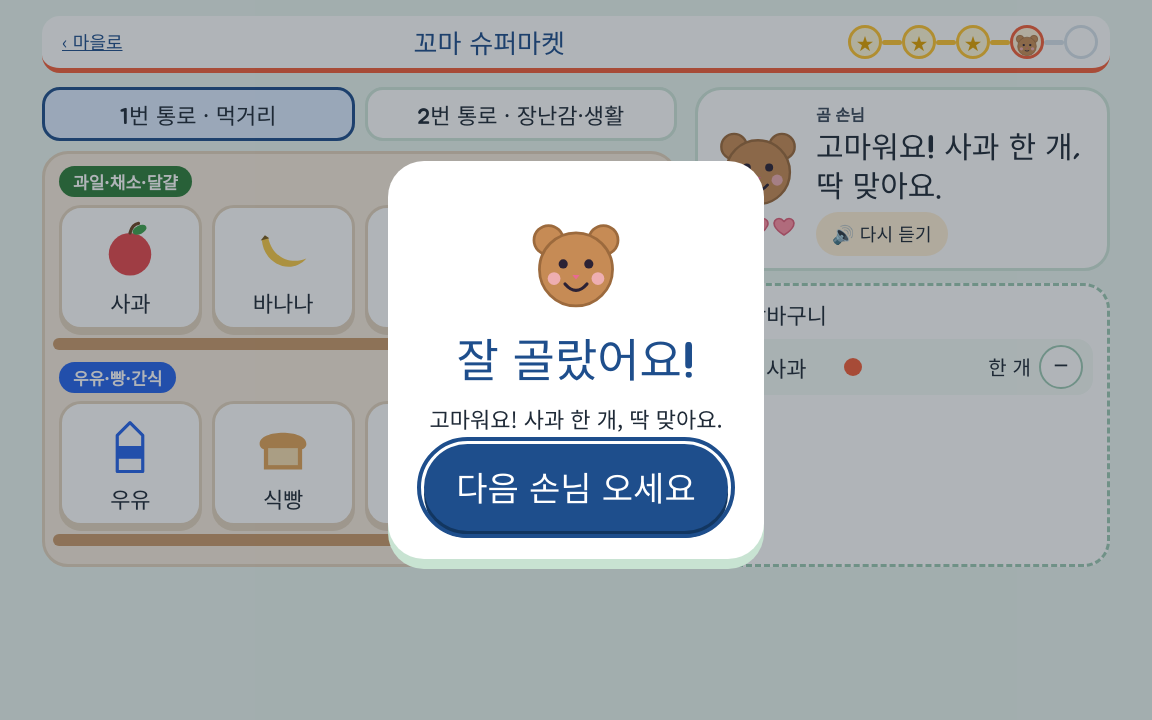
Scenario: 마을 지도와 보물상자 (게임처럼 가게를 하나씩) › 보물을 찾은 가게는 또 놀아도 열쇠가 다시 나오지 않습니다
Earlier steps of the test are not shown.
Click the button "다음 손님 오세요" at (576, 487), box 424,444 -> 728,531
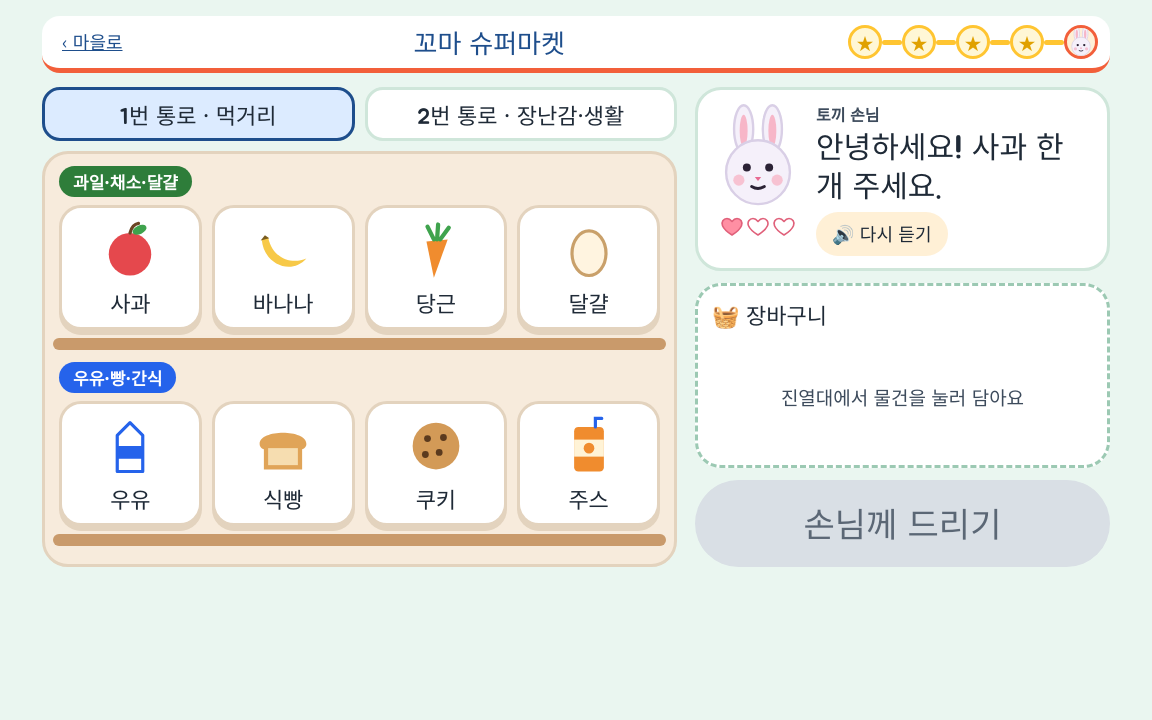
Click the button with aria-label "사과 담기" at (130, 268), box 59,205 -> 202,330
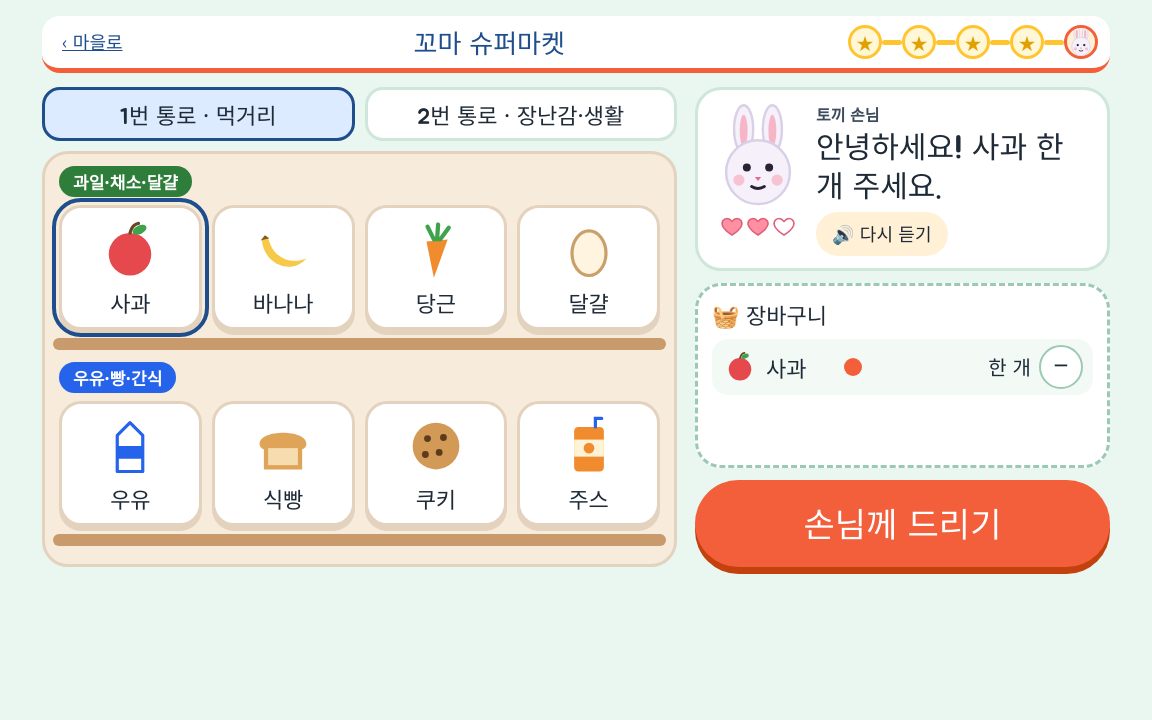
Click the button "손님께 드리기" at (902, 524), box 695,480 -> 1110,567
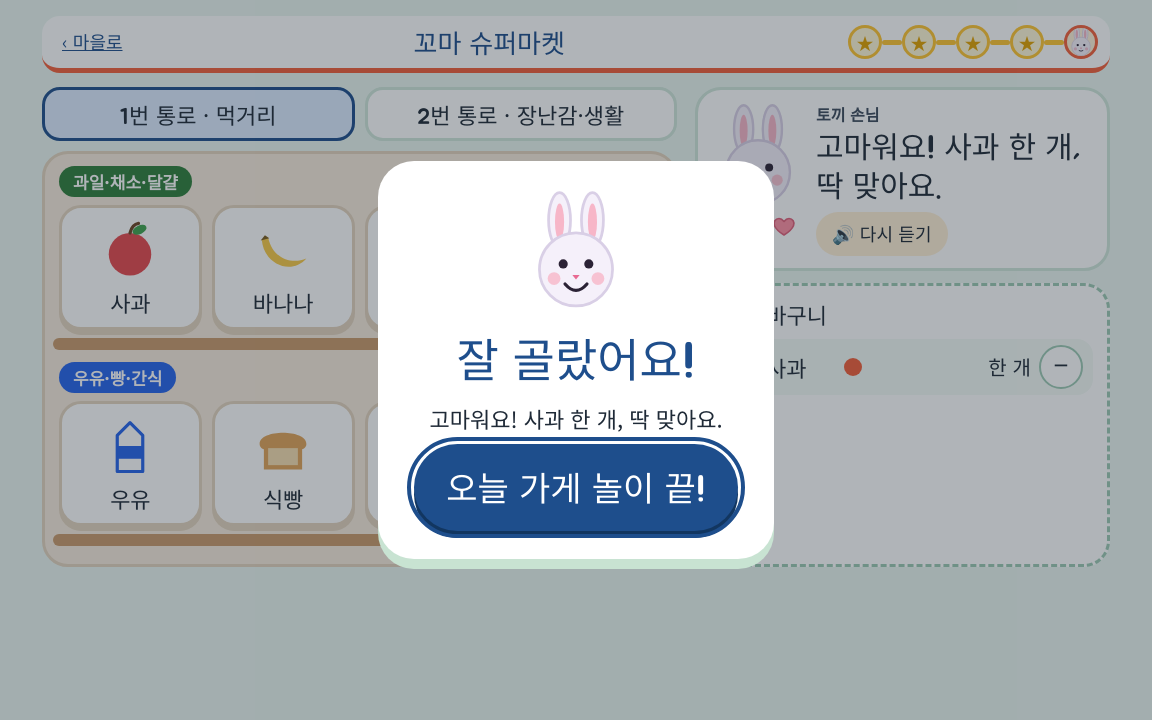
Click the button "오늘 가게 놀이 끝!" at (576, 487), box 414,444 -> 738,531
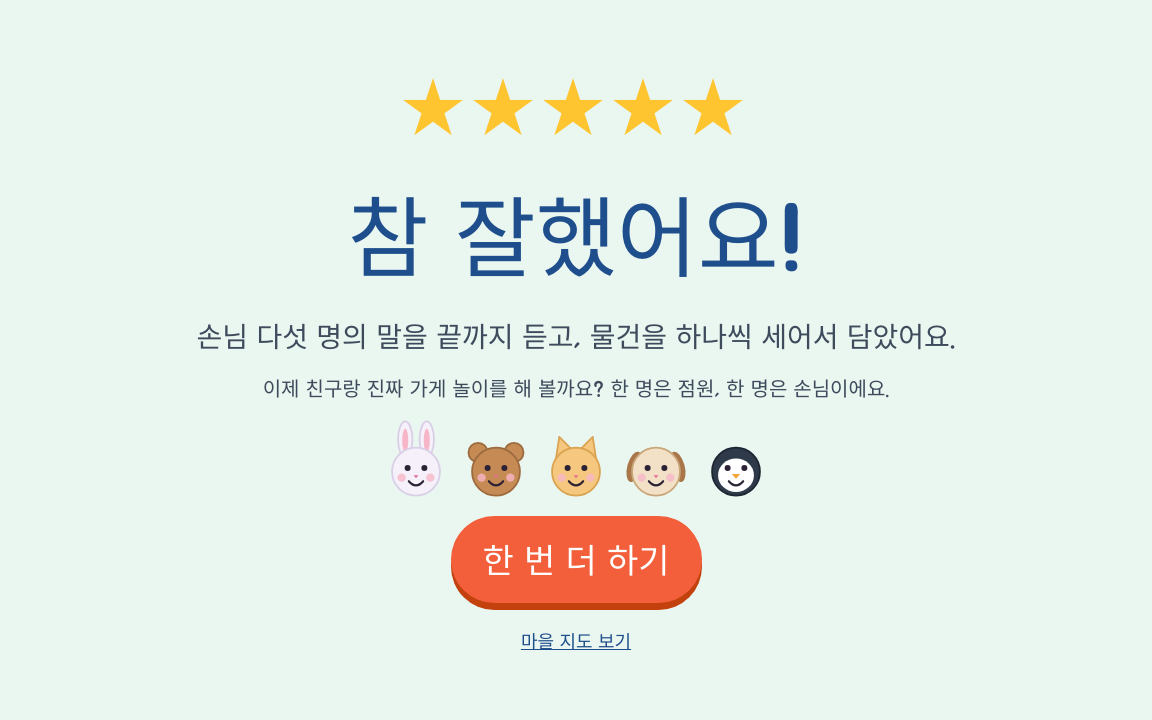
Expected: the heading "참 잘했어요!" is shown, 347,168 -> 805,299
